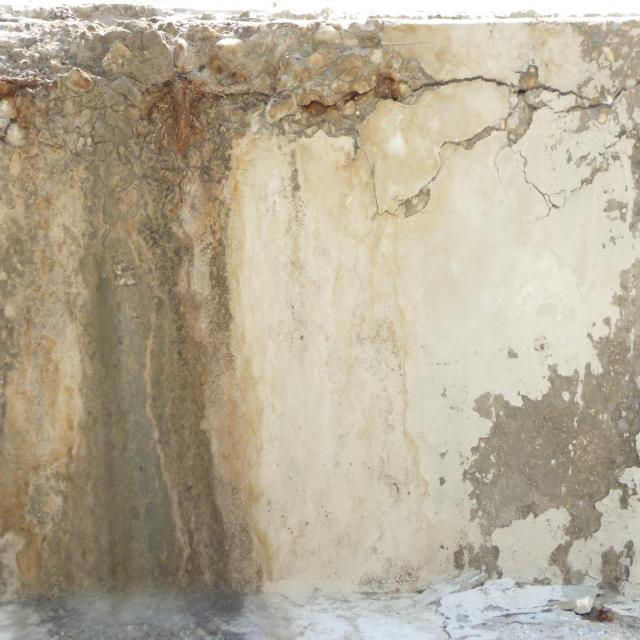corrosion: (0, 26, 415, 172)
